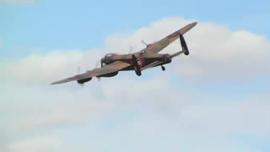aircraft: (48, 22, 199, 86)
